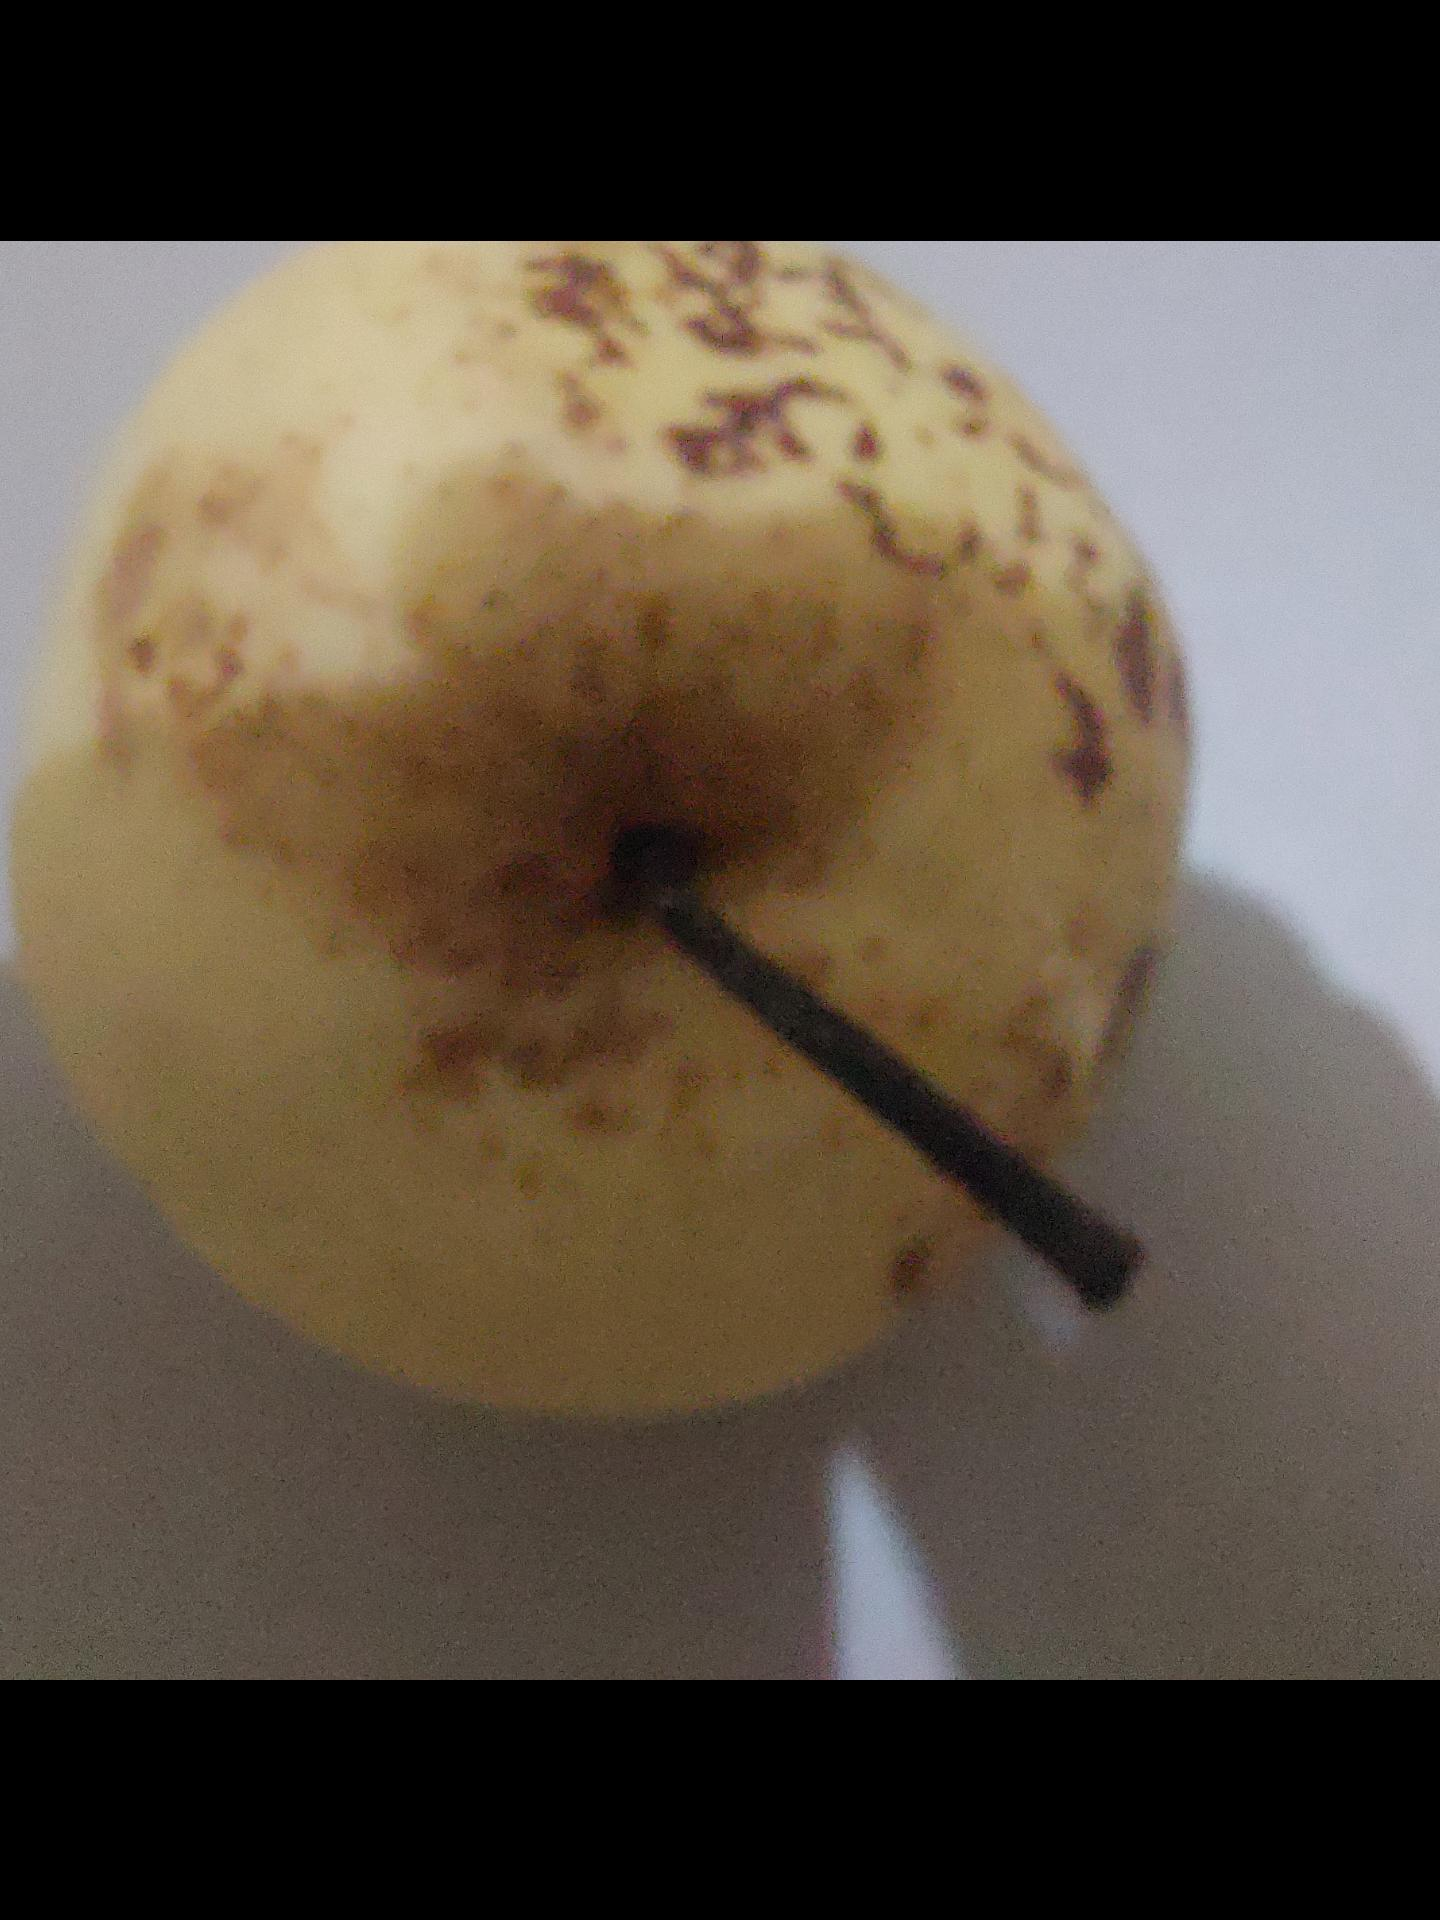Bad Pear: (0, 240, 1249, 1435)
